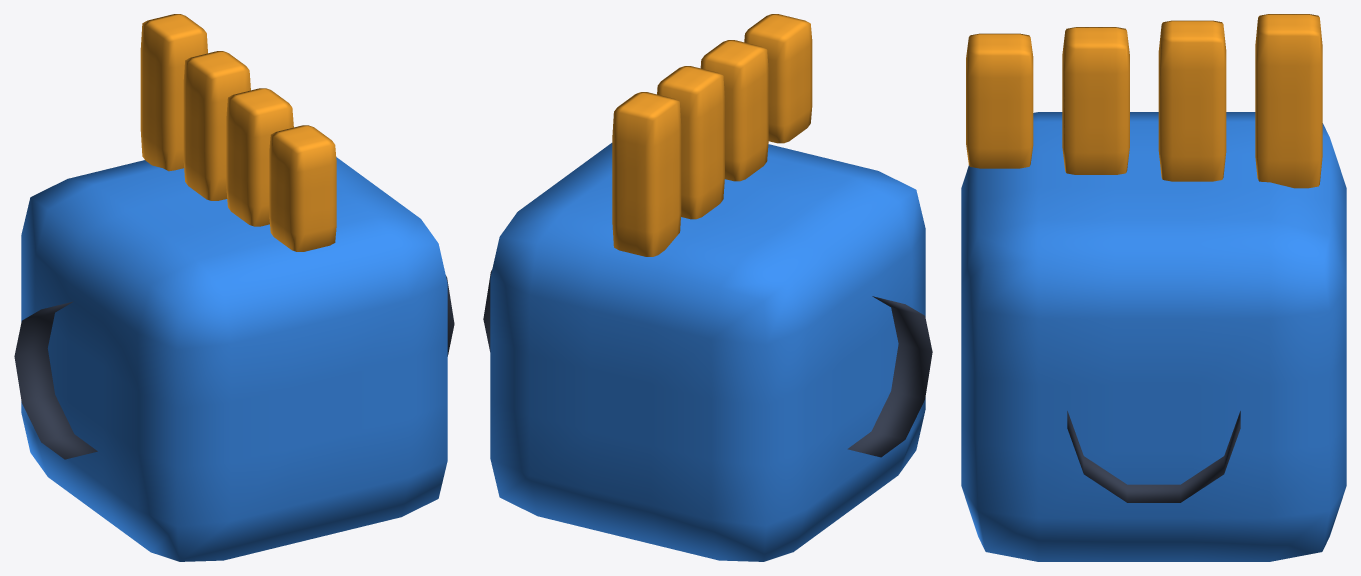
Rendered from head_mohawk.obj.
3 renders of one model, left to right at view 1: azimuth 30°, elevation 25°; view 2: azimuth 150°, elevation 25°; view 3: azimuth 270°, elevation 25°, orthographic. The views are drawn at different scales.
Bounding box in the file's own units: 0.49 × 0.55 × 0.4.
